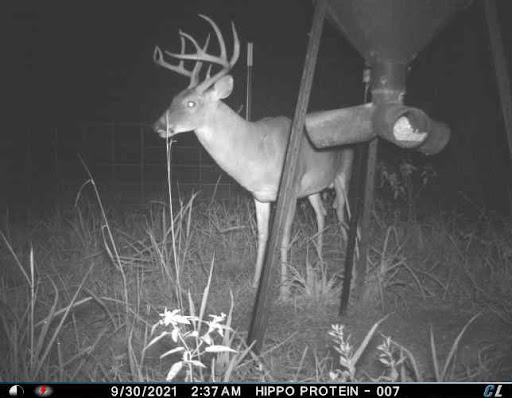Deer: (147, 7, 361, 316)
